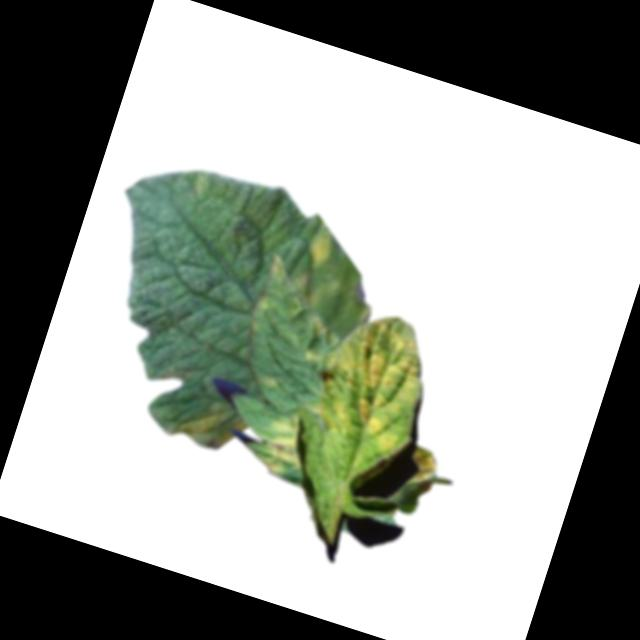Leaf_Mold: (303, 298, 447, 460), (247, 403, 316, 483), (170, 391, 249, 458), (301, 223, 336, 267), (263, 251, 289, 282), (305, 311, 333, 339), (254, 367, 280, 393)
